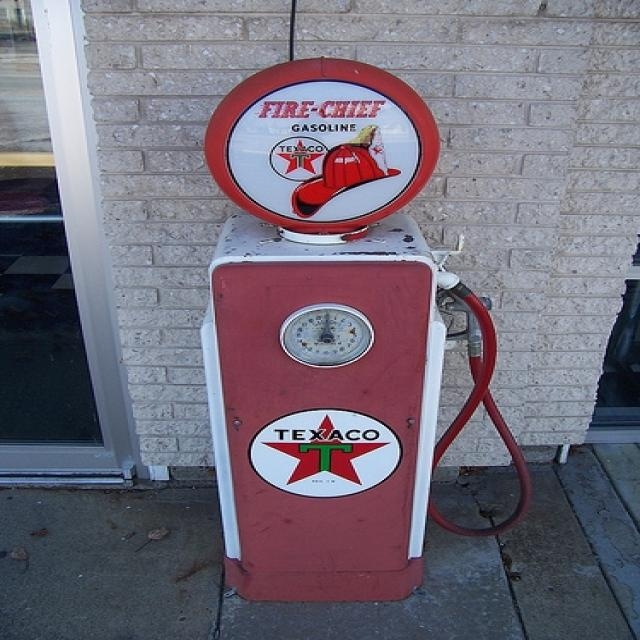texaco: (251, 410, 401, 501), (271, 137, 329, 182)
